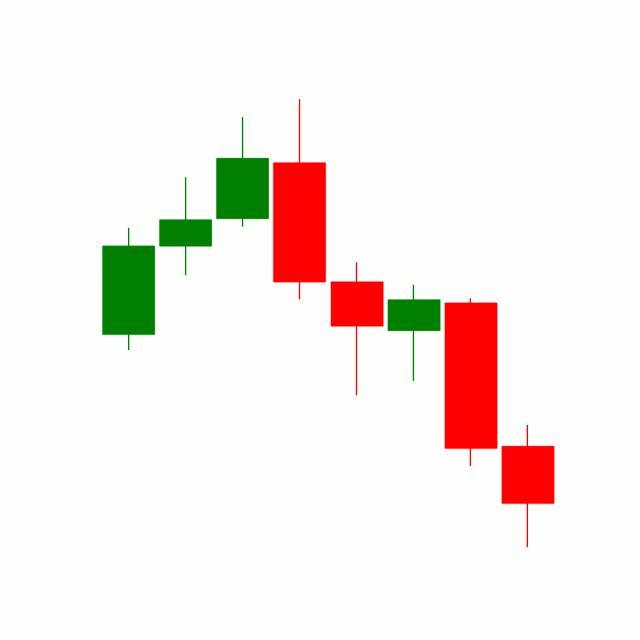Hikkake Pattern: (214, 99, 501, 471)
